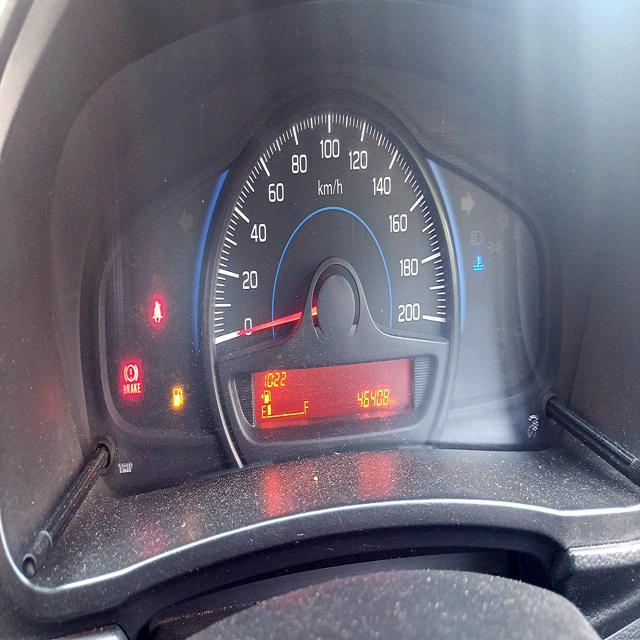odometer: (356, 384, 390, 409)
